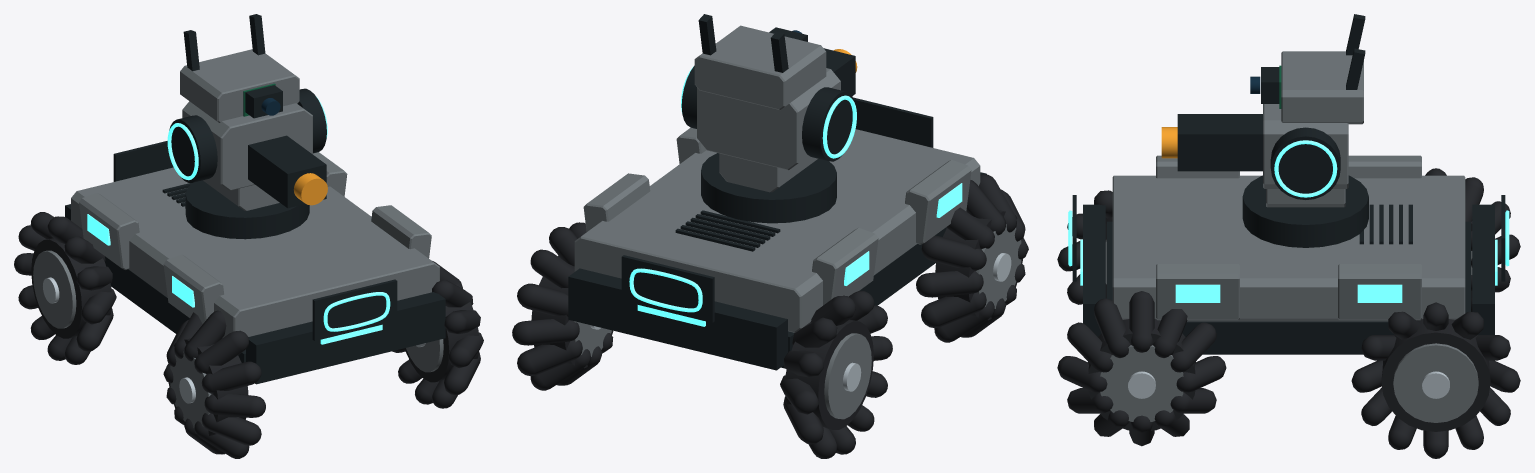
File: robomaster-s1.glb
The picture shows the model from 3 angles, left to right: view 1: azimuth 30°, elevation 25°; view 2: azimuth 150°, elevation 25°; view 3: azimuth 270°, elevation 25°; orthographic projection. The views are drawn at different scales.
Visible parts, largest first — view 1: Upper_deck, Mecanum_roller (×16), Bumper, Armor_panel (×4), Controller_box, Armor_sensor_face (×2), Gimbal_core, Hub (×3), Turret_bearing, Tire (×3), Blaster_shroud, Gimbal_side (×2) (+7 smaller); view 2: Upper_deck, Mecanum_roller (×19), Bumper, Armor_panel (×4), Controller_box, Gimbal_core, Armor_sensor_face (×2), Turret_bearing, Hub (×3), Tire (×3), Gimbal_side (×2), Chassis (+5 smaller); view 3: Upper_deck, Mecanum_roller (×25), Armor_panel (×4), Hub (×2), Chassis, Turret_bearing, Controller_box, Bumper (×2), Blaster_shroud, Tire (×2), Gimbal_side, Gimbal_core (+7 smaller).
Part boxes in pixels (x1=…): Upper_deck: x1=71, y1=167, x2=439, y2=337; Mecanum_roller (×16): x1=47, y1=216, x2=483, y2=458; Bumper: x1=246, y1=292, x2=445, y2=384; Armor_panel (×4): x1=79, y1=152, x2=431, y2=323; Controller_box: x1=180, y1=49, x2=299, y2=122; Armor_sensor_face (×2): x1=113, y1=141, x2=397, y2=340; Gimbal_core: x1=182, y1=101, x2=312, y2=190; Hub (×3): x1=33, y1=250, x2=443, y2=427; Turret_bearing: x1=185, y1=180, x2=309, y2=239; Tire (×3): x1=31, y1=238, x2=478, y2=438; Blaster_shroud: x1=248, y1=135, x2=326, y2=208; Gimbal_side (×2): x1=169, y1=88, x2=326, y2=182; Upper_deck: x1=574, y1=129, x2=980, y2=332; Mecanum_roller (×19): x1=512, y1=174, x2=1016, y2=458; Bumper: x1=568, y1=268, x2=787, y2=370; Armor_panel (×4): x1=583, y1=127, x2=971, y2=305; Controller_box: x1=694, y1=25, x2=826, y2=109; Gimbal_core: x1=697, y1=68, x2=840, y2=170; Armor_sensor_face (×2): x1=621, y1=97, x2=933, y2=322; Turret_bearing: x1=701, y1=153, x2=836, y2=223; Hub (×3): x1=573, y1=224, x2=1021, y2=419; Tire (×3): x1=531, y1=210, x2=1023, y2=429; Gimbal_side (×2): x1=681, y1=65, x2=854, y2=161; Chassis: x1=781, y1=228, x2=946, y2=368; Upper_deck: x1=1112, y1=175, x2=1465, y2=321; Mecanum_roller (×25): x1=1057, y1=177, x2=1520, y2=458; Armor_panel (×4): x1=1156, y1=155, x2=1421, y2=320; Hub (×2): x1=1100, y1=343, x2=1478, y2=422; Chassis: x1=1107, y1=221, x2=1470, y2=354; Turret_bearing: x1=1242, y1=175, x2=1368, y2=247; Controller_box: x1=1281, y1=51, x2=1363, y2=124; Bumper (×2): x1=1083, y1=204, x2=1494, y2=336; Blaster_shroud: x1=1177, y1=114, x2=1262, y2=171; Tire (×2): x1=1088, y1=319, x2=1490, y2=431; Gimbal_side: x1=1270, y1=127, x2=1340, y2=199; Gimbal_core: x1=1263, y1=104, x2=1348, y2=188.
Bounding box in the file's own units: 0.2324 × 0.2665 × 0.3129.
